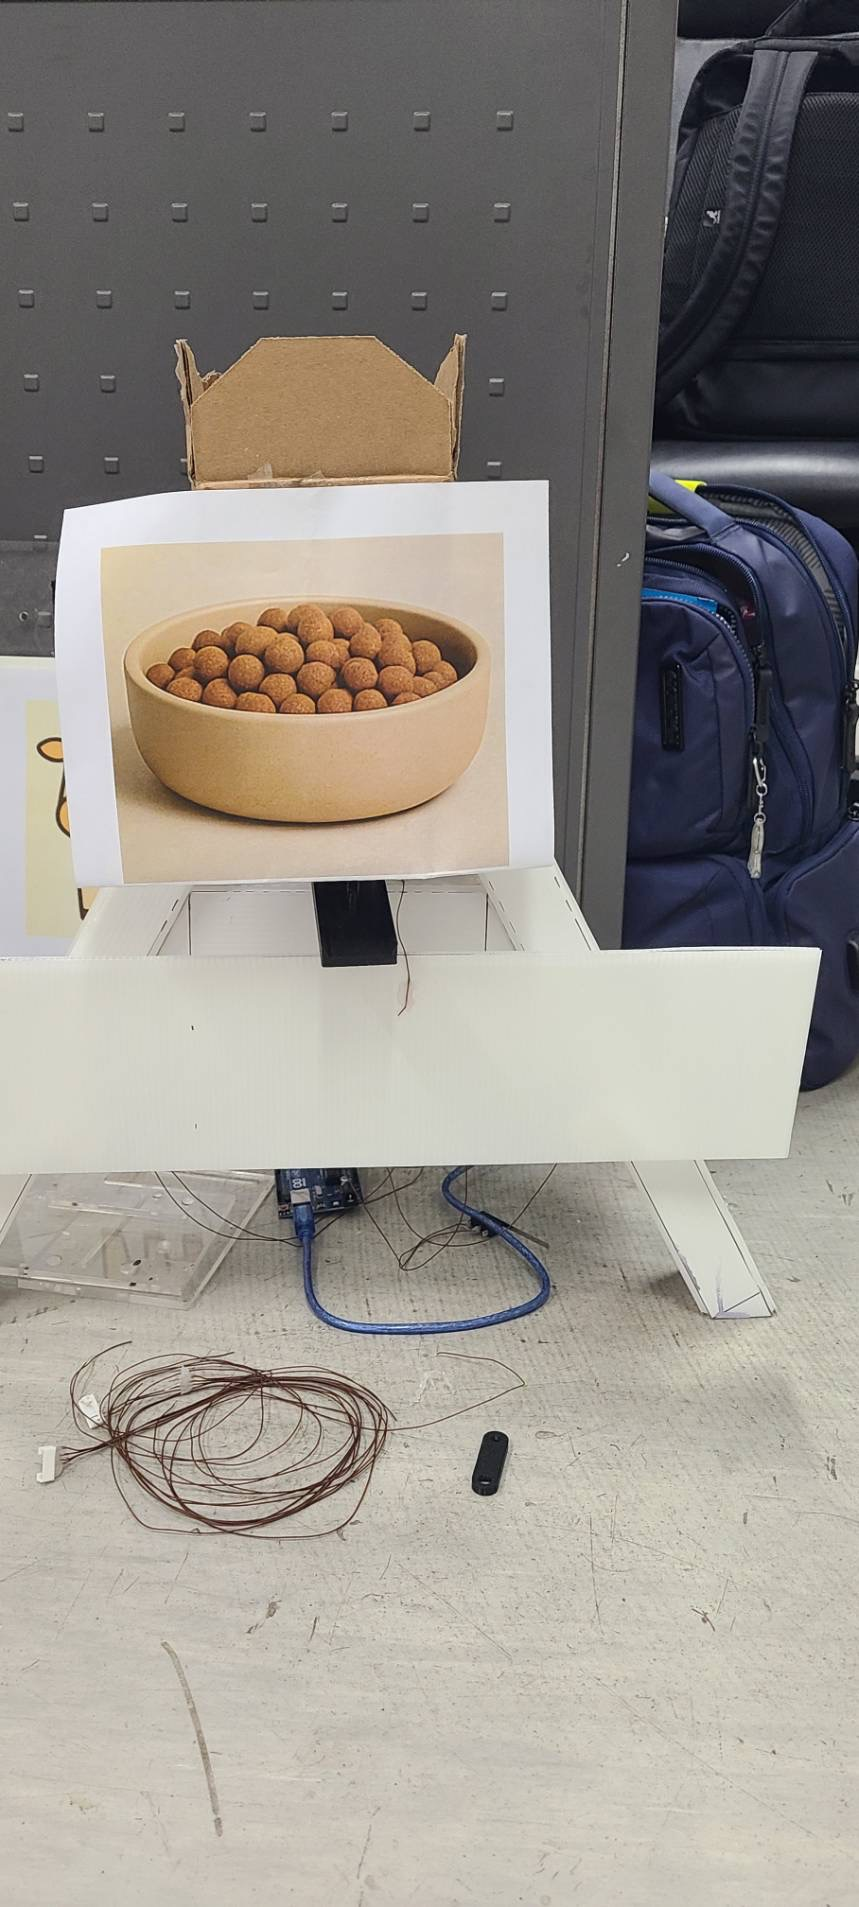machine: (130, 600, 493, 819)
